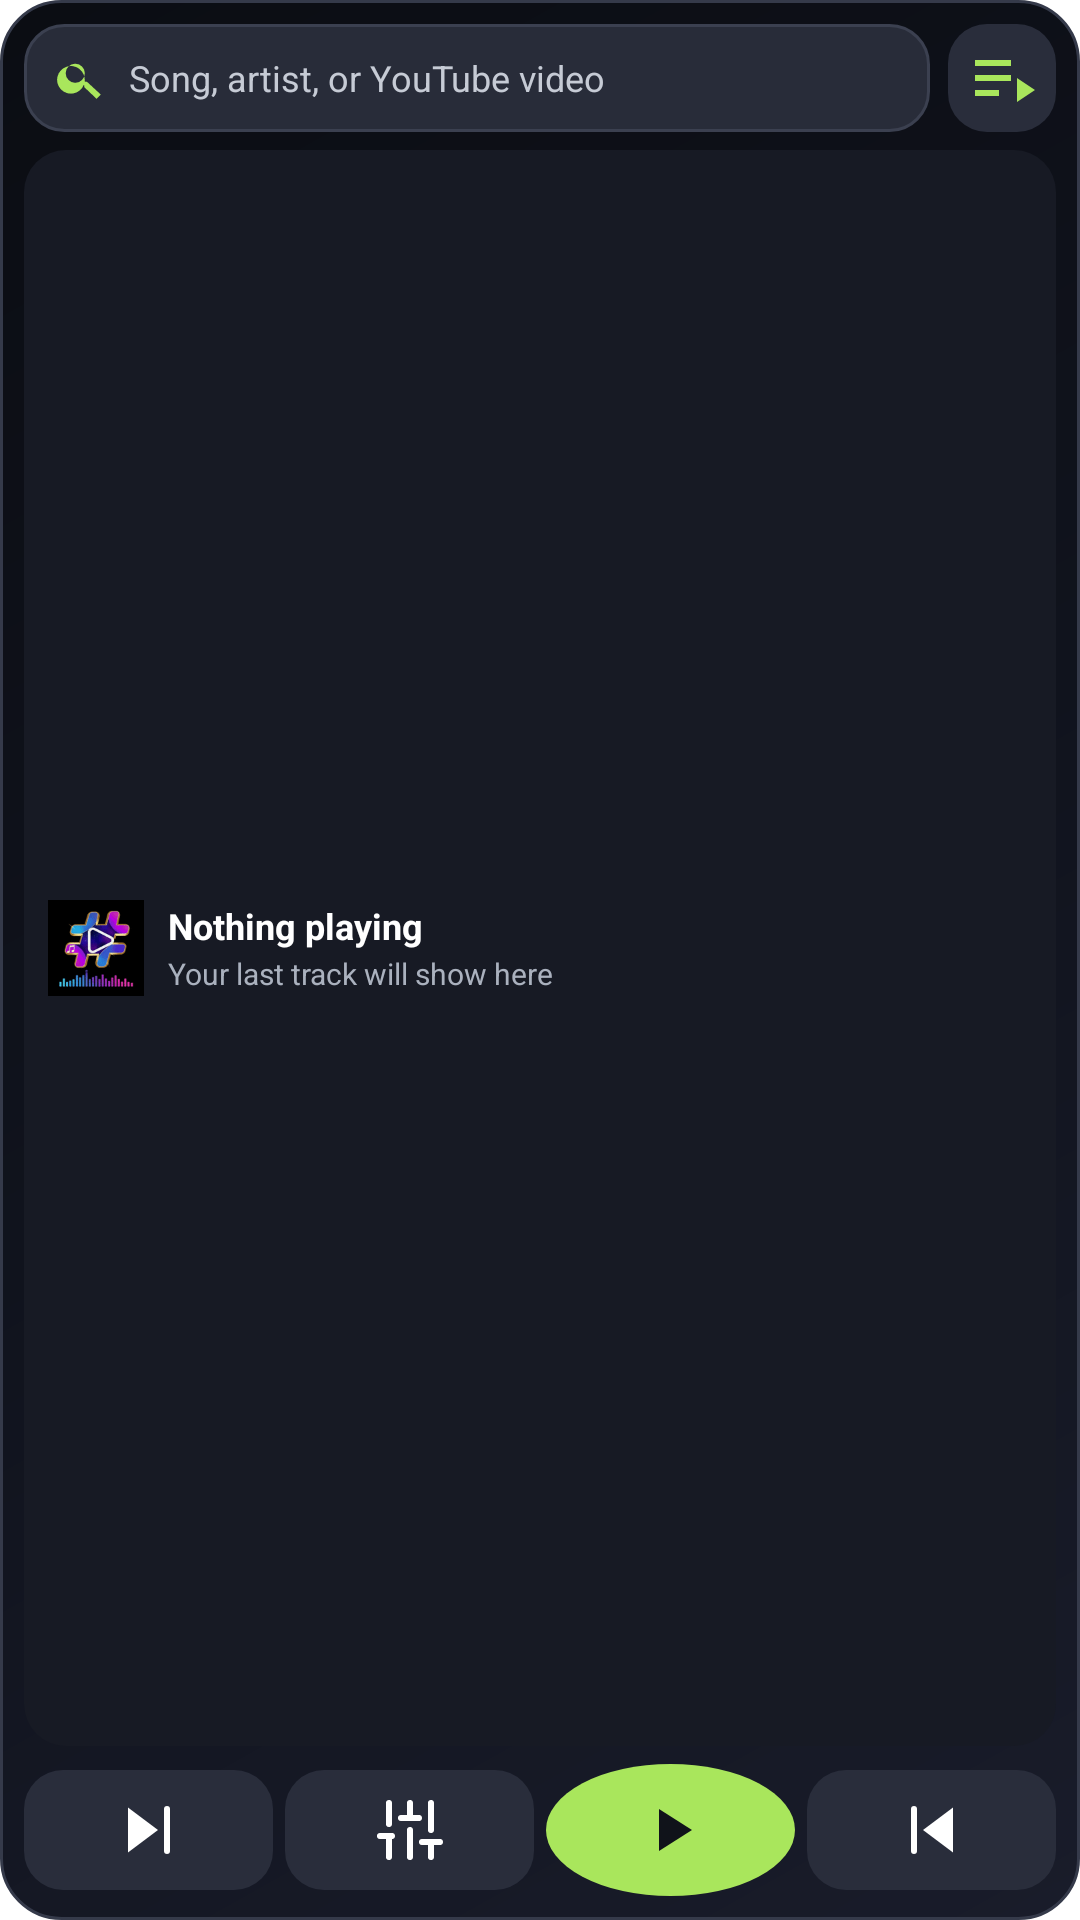

Icons on this 1080×1920 Android screen, each with its box as (x1=x1, y1=y1, x2=x2, y2=y2):
Equalizer: (x1=285, y1=1770, x2=534, y2=1890)
Open playlists: (x1=948, y1=24, x2=1056, y2=132)
Play / Pause: (x1=546, y1=1764, x2=795, y2=1896)
Search HashPlayer: (x1=57, y1=63, x2=101, y2=99)
